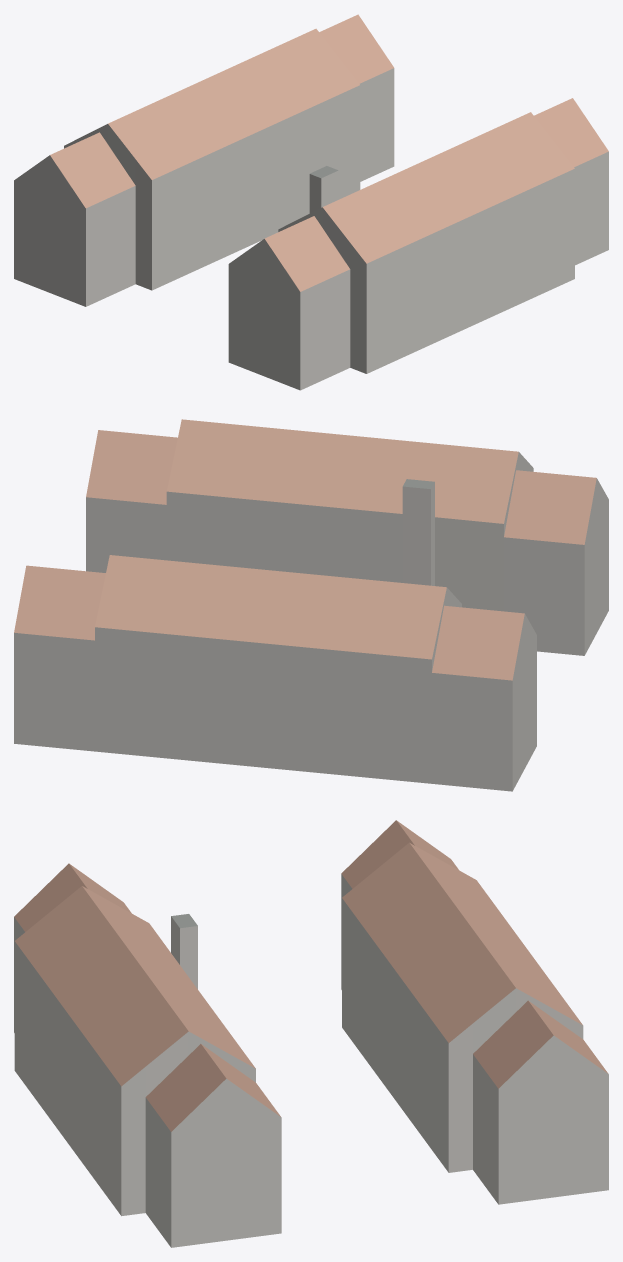
File: gridID_91.dae
3 renders of one model, top to bottom at view 1: azimuth 30°, elevation 25°; view 2: azimuth 150°, elevation 25°; view 3: azimuth 270°, elevation 25°, orthographic. The views are drawn at different scales.
Visible parts, largest first — view 1: model_gridID_91_w116940051, model_gridID_91_w379334544; view 2: model_gridID_91_w379334544, model_gridID_91_w116940051; view 3: model_gridID_91_w116940051, model_gridID_91_w379334544.
Part boxes in pixels (<box>): model_gridID_91_w116940051: <box>228,98,608,390</box>; model_gridID_91_w379334544: <box>14,14,394,306</box>; model_gridID_91_w379334544: <box>14,555,536,791</box>; model_gridID_91_w116940051: <box>86,419,608,655</box>; model_gridID_91_w116940051: <box>14,863,281,1247</box>; model_gridID_91_w379334544: <box>341,820,608,1204</box>.
Bounding box in the file's own units: 63.19 × 58.21 × 19.
